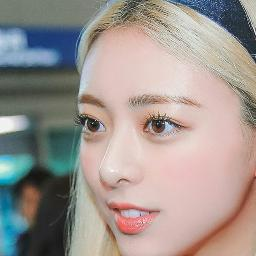face: (86, 45, 238, 253)
